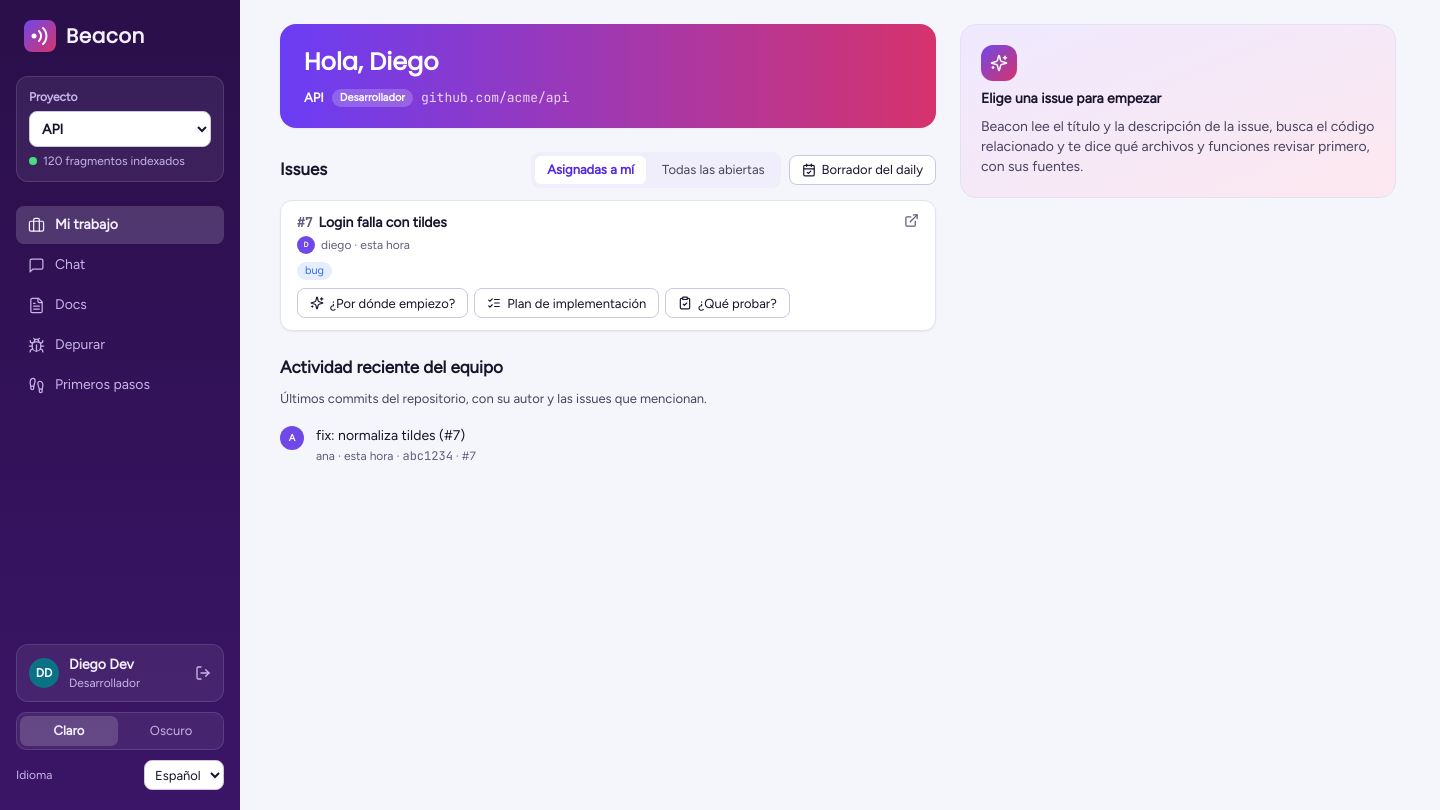
Test: modo equipo › «¿Por dónde empiezo?» muestra la respuesta con sus fuentes
Click the button "¿Por dónde empiezo?".
click(383, 303)  # box [297,288,468,318]
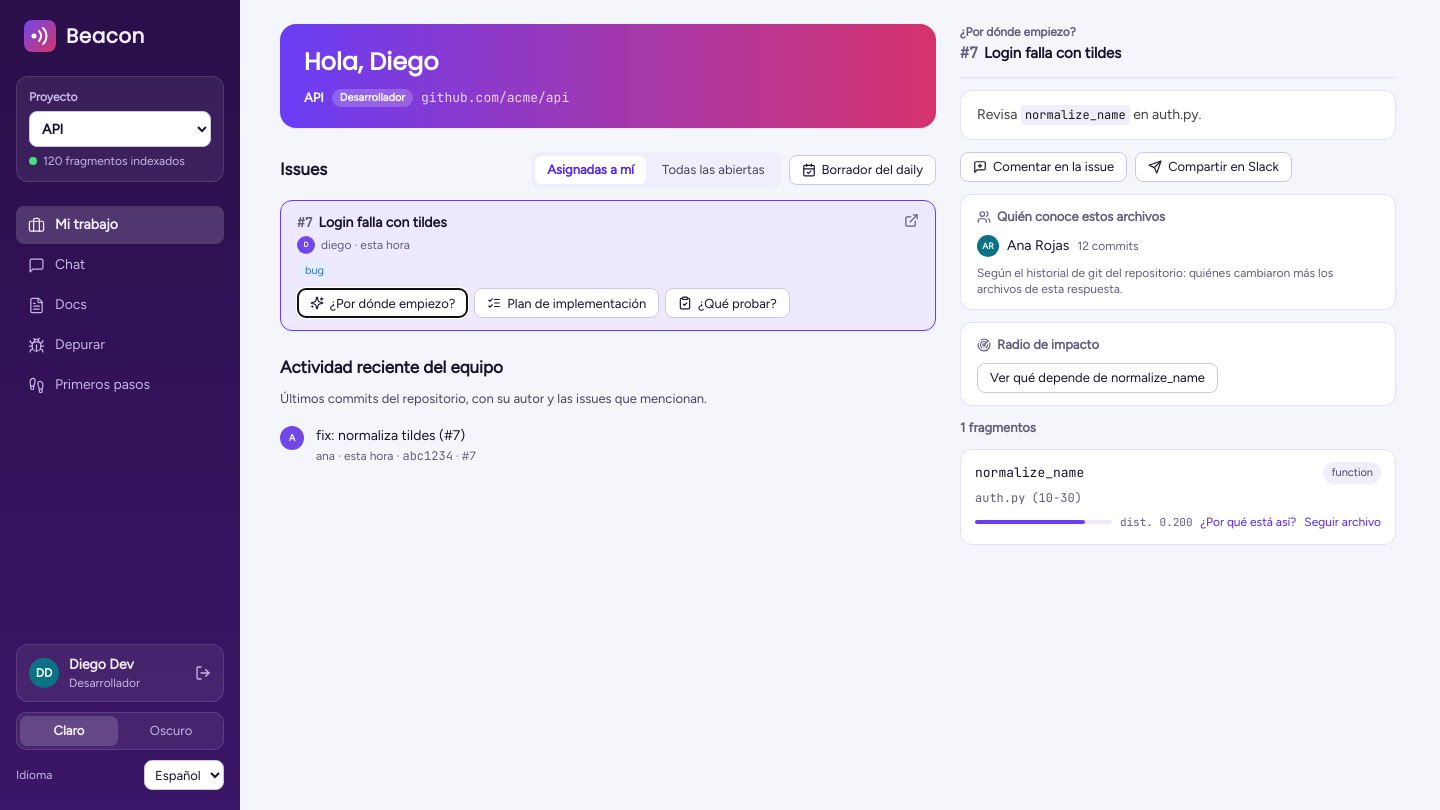
Check: the text "normalize_name" next to "Revisa" is shown, box [1025,106,1126,122]
